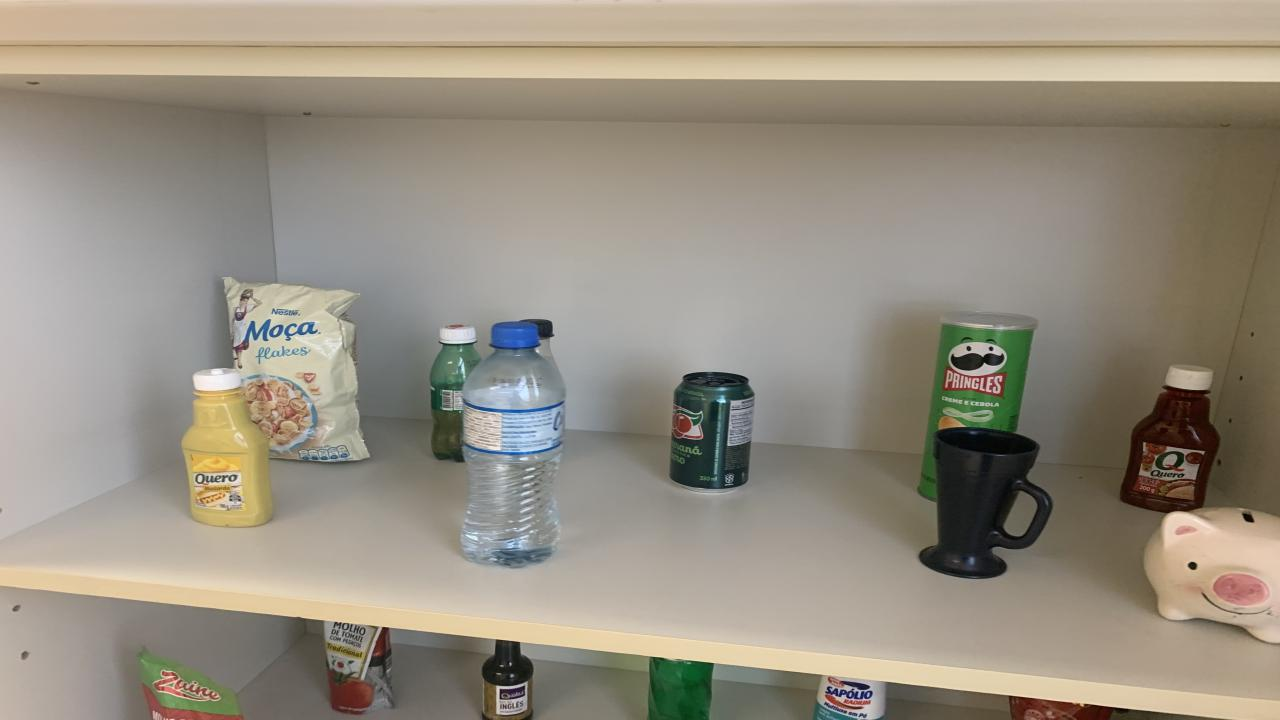Cleaner-Cleanup_Items: (812, 675, 888, 720)
Detergent-Cleanup_Items: (648, 656, 712, 720)
English_Sauce-Pantry_Items: (482, 639, 532, 720)
Flakes-Snacks: (222, 278, 368, 463)
Guarana-Drinks: (430, 324, 480, 461)
Guarana_Can-Drinks: (670, 371, 755, 491)
Ketchup-Pantry_Items: (1120, 364, 1220, 512)
Mustard-Pantry_Items: (182, 369, 272, 527)
Pig_Safe-Miscellaneous: (1142, 508, 1280, 643)
Pringles-Snacks: (918, 311, 1038, 499)
Tomato_Sauce-Pantry_Items: (138, 649, 242, 720), (325, 621, 395, 714), (1010, 696, 1112, 720)
Water_Bottle-Drinks: (462, 322, 565, 564)
